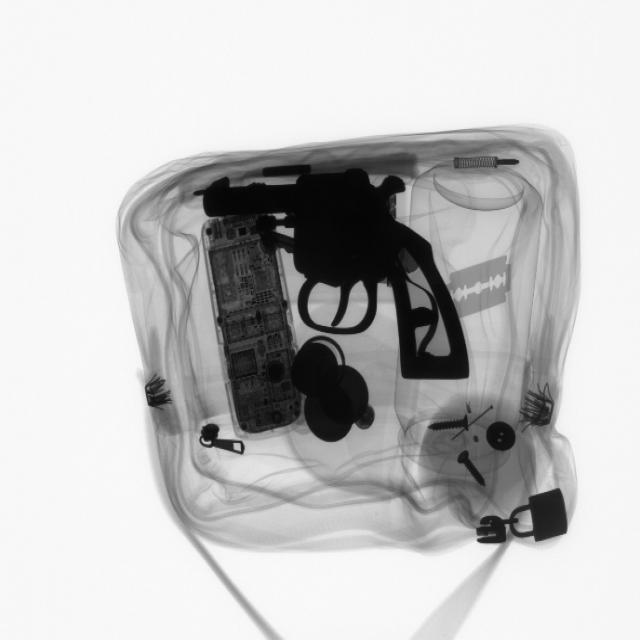BLADE: (445, 256, 515, 327)
GUN: (199, 168, 466, 389)
SCREW: (450, 443, 491, 498), (418, 408, 479, 442)
